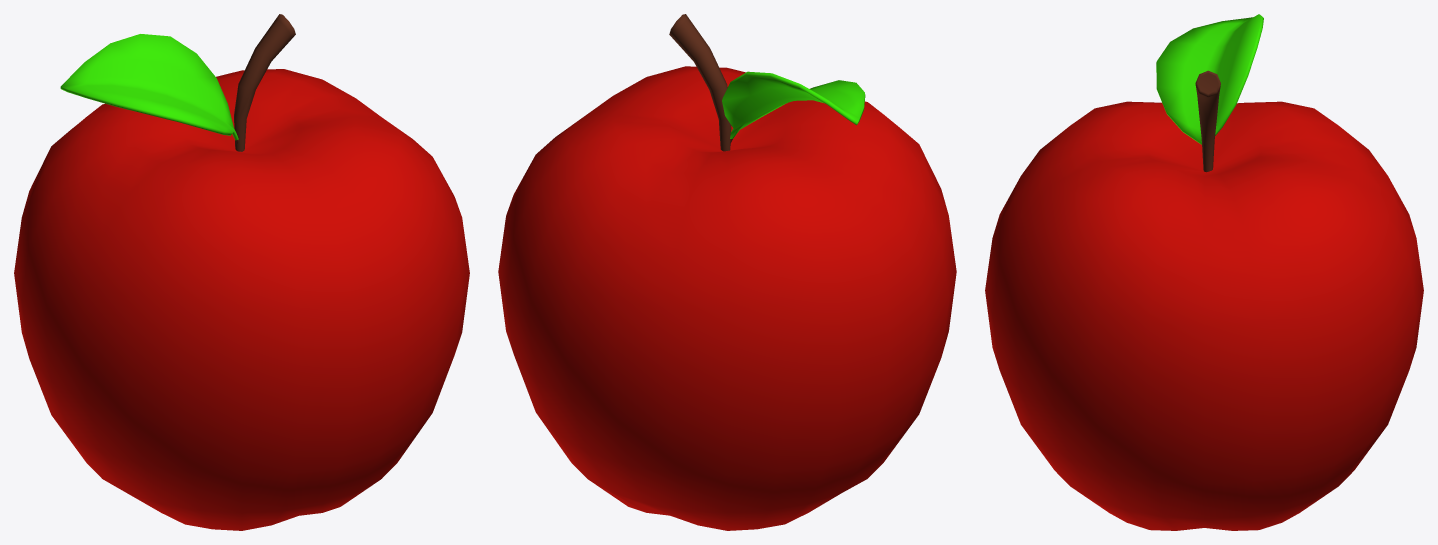
The model's file is maça.fbx.
3 renders of one model, left to right at view 1: azimuth 30°, elevation 25°; view 2: azimuth 150°, elevation 25°; view 3: azimuth 270°, elevation 25°, orthographic. The views are drawn at different scales.
Visible parts, largest first — view 1: Apple; view 2: Apple; view 3: Apple.
Part boxes in pixels (<box>): Apple: <box>14,14,469,530</box>; Apple: <box>498,14,956,530</box>; Apple: <box>985,14,1423,530</box>.
Bounding box in the file's own units: 58.97 × 67.26 × 58.97.
